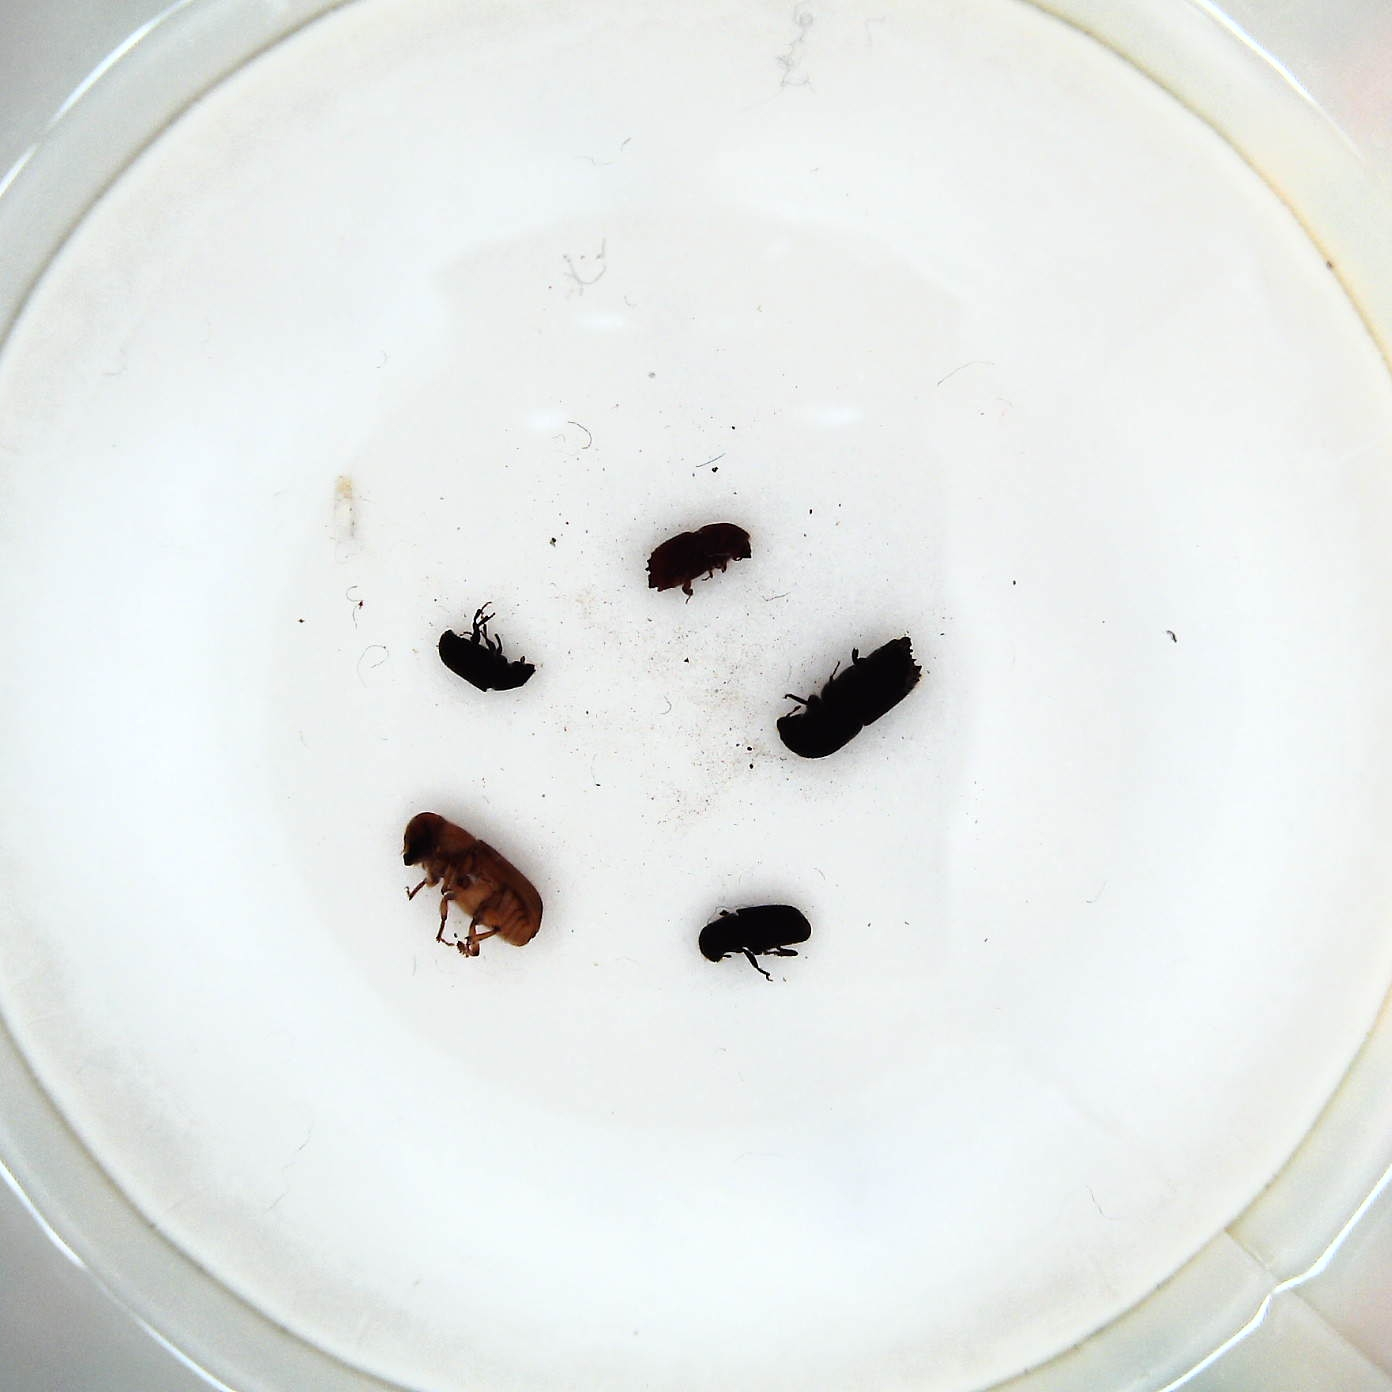Boerner: (771, 631, 925, 767)
Leconte: (398, 809, 547, 962)
armandi: (696, 903, 813, 980)
coleoptera: (437, 602, 537, 697)
linnaeus: (642, 524, 758, 597)
